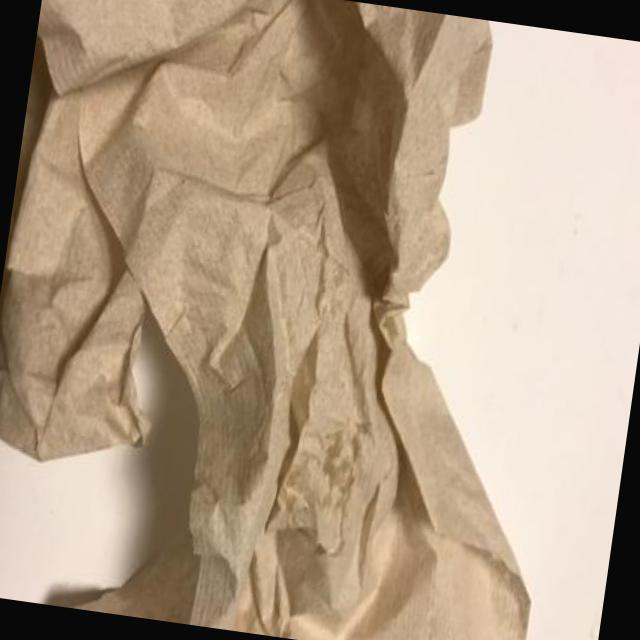giay: (0, 0, 527, 640)
